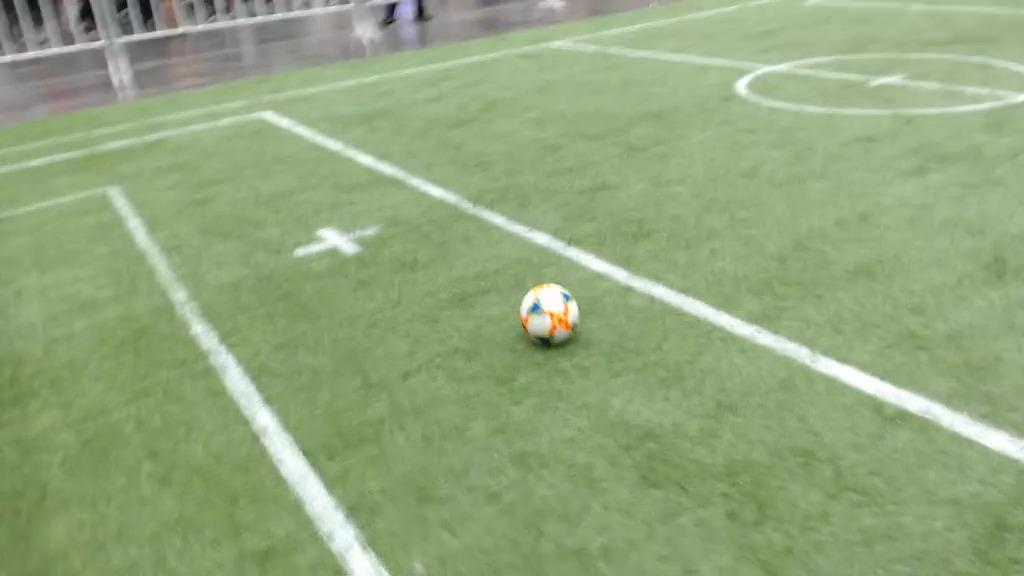ball: (521, 282, 579, 347)
